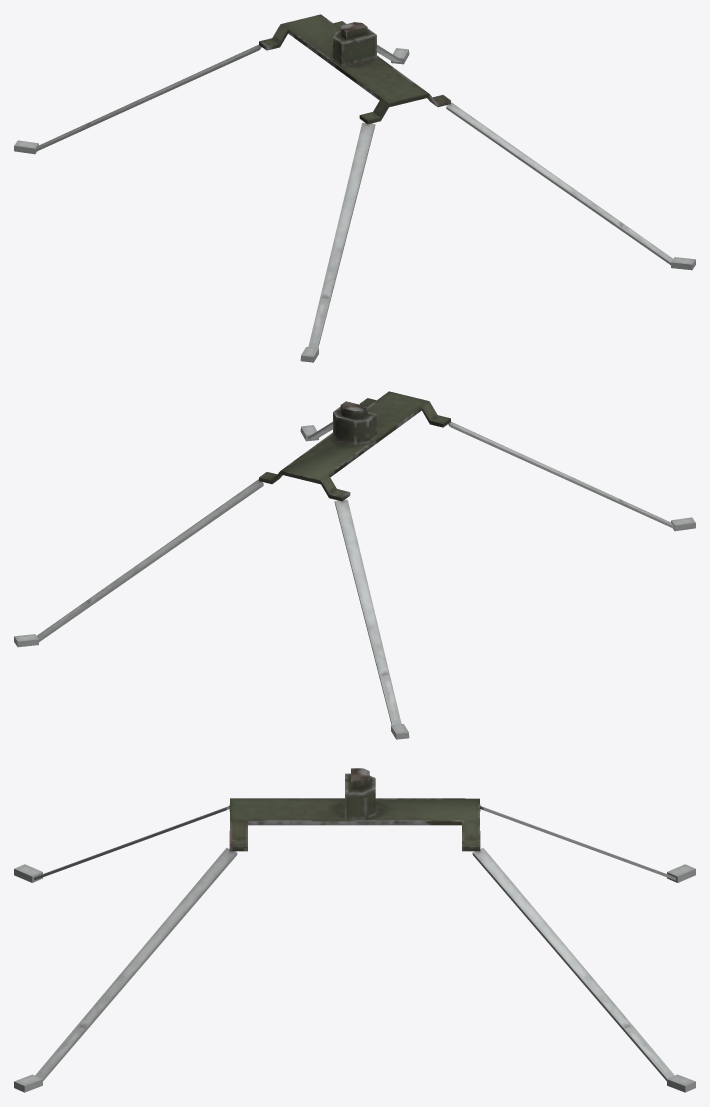
The model's file is TgtTargetStandABaseA1.fbx.
3 views of the same model, one above another, from view 1: azimuth 30°, elevation 25°; view 2: azimuth 150°, elevation 25°; view 3: azimuth 270°, elevation 25° (orthographic). The views are drawn at different scales.
Parts seen in each view (by area): view 1: TgtTargetStandABaseA1; view 2: TgtTargetStandABaseA1; view 3: TgtTargetStandABaseA1.
Part boxes in pixels (x1,y1,x2,y2): TgtTargetStandABaseA1: [14, 14, 695, 362]; TgtTargetStandABaseA1: [14, 391, 695, 739]; TgtTargetStandABaseA1: [14, 768, 695, 1092].
Bounding box in the file's own units: 51.53 × 22.46 × 66.86.
Materials: 1 (1 with a texture image).
